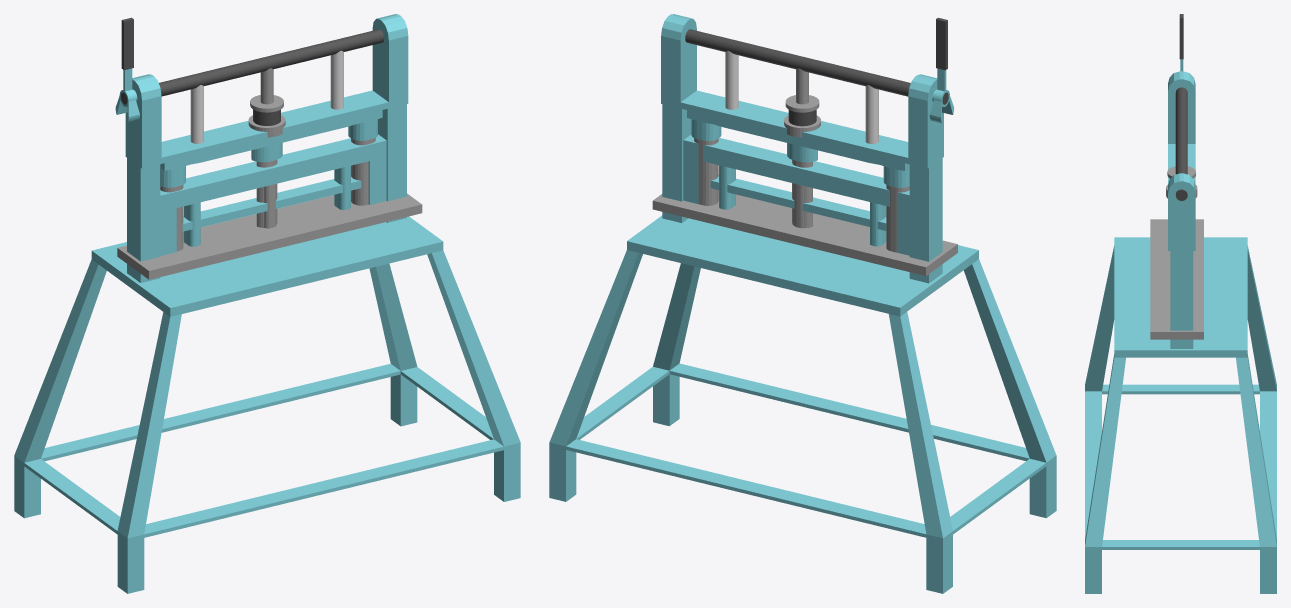
Rendered from mesin_opak_17.fbx.
3 renders of one model, left to right at view 1: azimuth 30°, elevation 25°; view 2: azimuth 150°, elevation 25°; view 3: azimuth 270°, elevation 25°, orthographic. The views are drawn at different scales.
Visible parts, largest first — view 1: Cube.002, Cube, Cube.001, Cylinder, Cylinder.001, Cylinder.002, Cylinder.003; view 2: Cube.002, Cube, Cube.001, Cylinder, Cylinder.001, Cylinder.002, Cylinder.003; view 3: Cube.002, Cube, Cube.001, Cylinder.
Part boxes in pixels (x1=…): Cube.002: x1=14, y1=195, x2=520, y2=593; Cube: x1=125, y1=14, x2=408, y2=282; Cube.001: x1=117, y1=193, x2=422, y2=279; Cylinder: x1=115, y1=17, x2=384, y2=122; Cylinder.001: x1=248, y1=68, x2=285, y2=137; Cylinder.002: x1=190, y1=85, x2=203, y2=143; Cylinder.003: x1=330, y1=50, x2=343, y2=109; Cube.002: x1=549, y1=215, x2=1056, y2=593; Cube: x1=661, y1=14, x2=943, y2=283; Cube.001: x1=652, y1=190, x2=957, y2=275; Cylinder: x1=685, y1=17, x2=954, y2=123; Cylinder.001: x1=784, y1=68, x2=820, y2=137; Cylinder.002: x1=865, y1=85, x2=878, y2=143; Cylinder.003: x1=725, y1=51, x2=738, y2=109; Cube.002: x1=1085, y1=237, x2=1276, y2=593; Cube: x1=1168, y1=71, x2=1195, y2=348; Cube.001: x1=1150, y1=219, x2=1203, y2=339; Cylinder: x1=1175, y1=14, x2=1187, y2=200.
Size of the model in its own units: 295 by 372 by 147.
